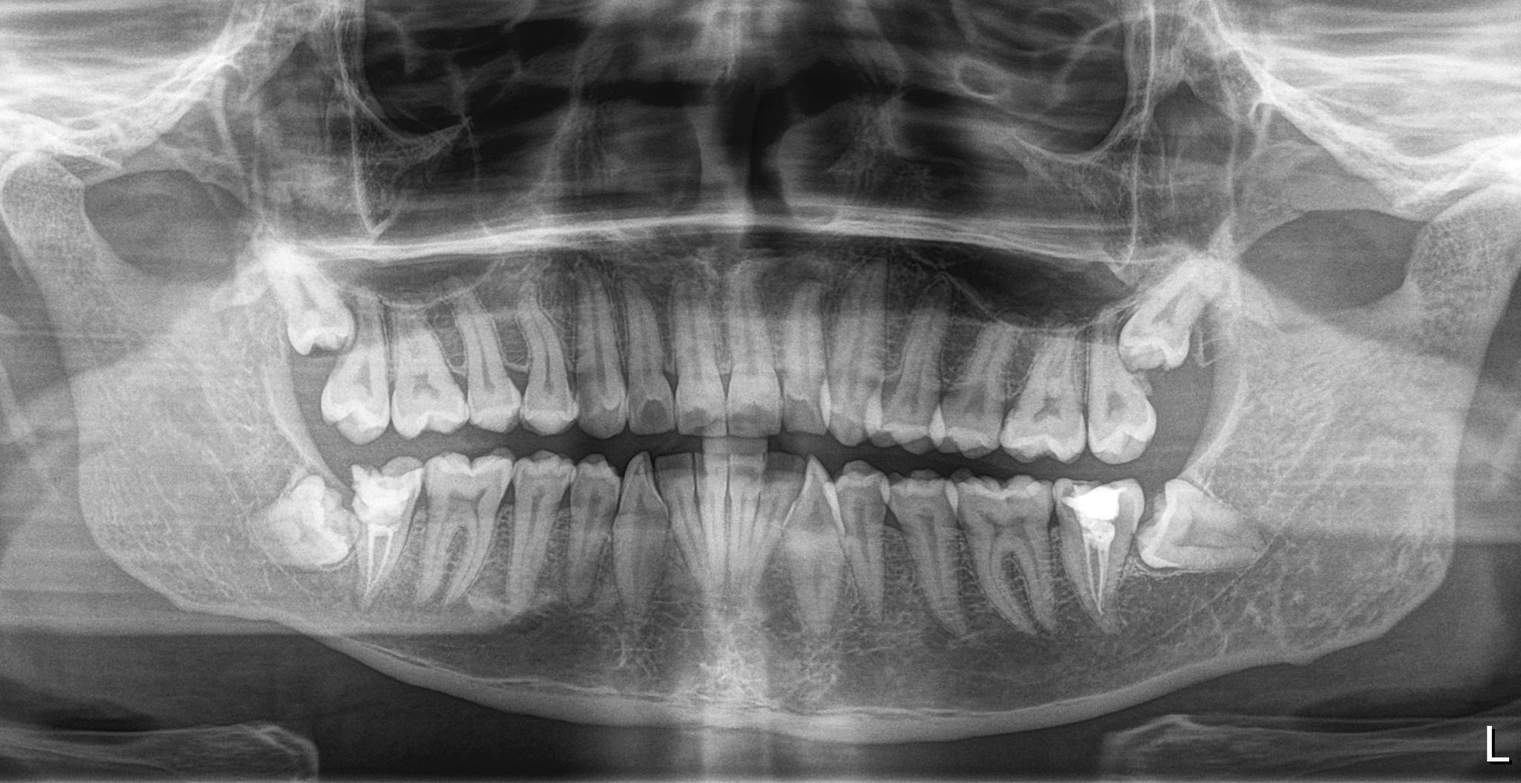Endodontically Treated Tooth: (1058, 479, 1137, 616), (579, 382, 628, 431)
Impacted Third Molar: (241, 475, 356, 569), (262, 252, 354, 354)
